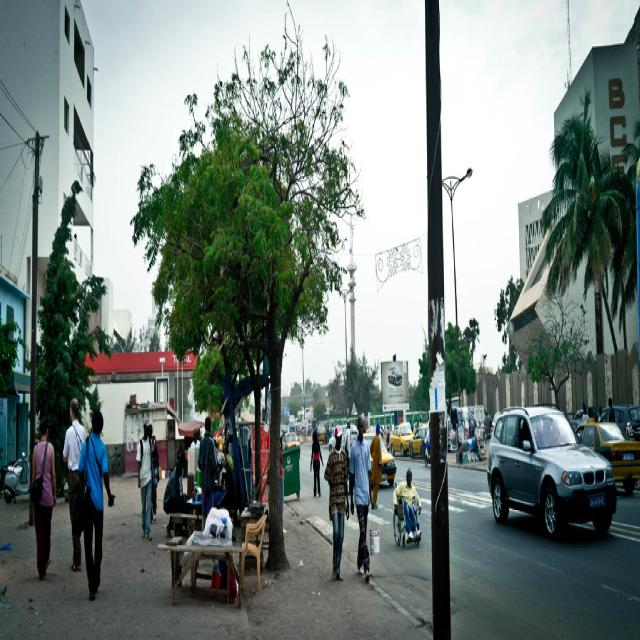car: (485, 398, 616, 534)
